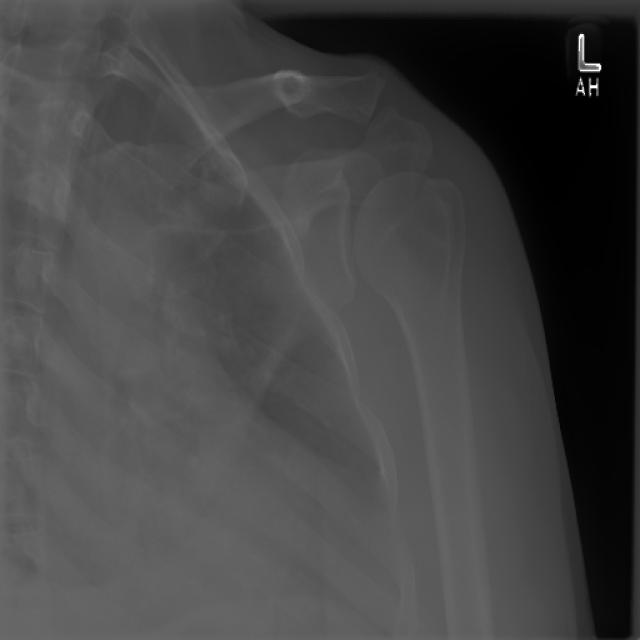shoulder fracture: (253, 51, 329, 139)
